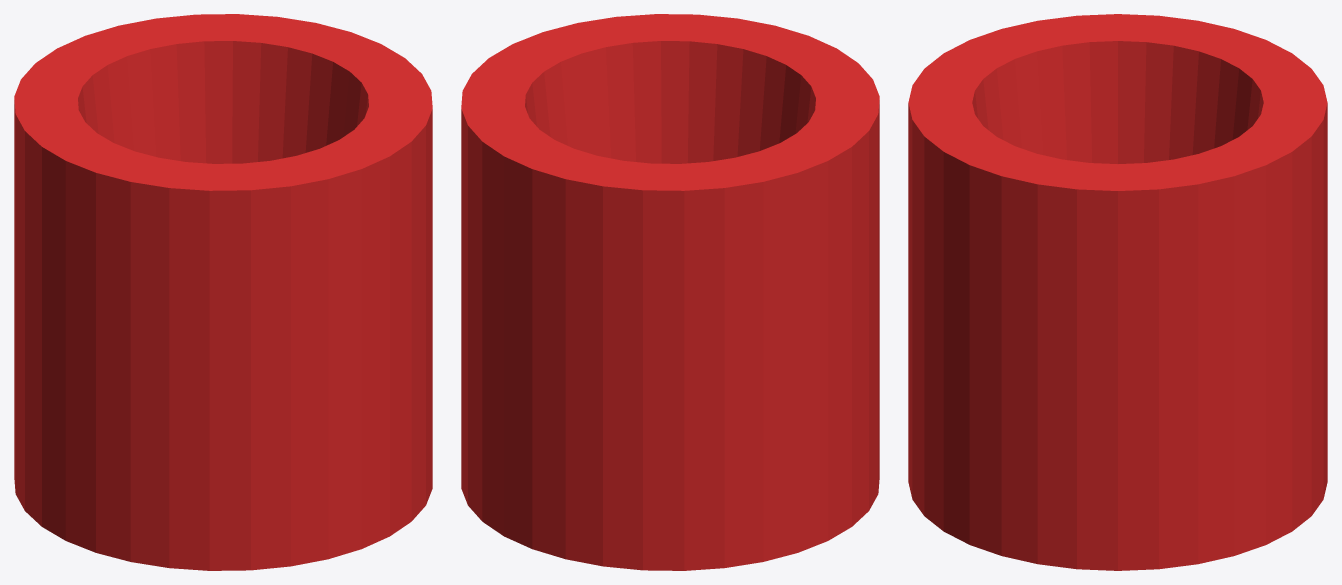
Rendered from portaprovette.dae.
The picture shows the model from 3 angles, left to right: view 1: azimuth 30°, elevation 25°; view 2: azimuth 150°, elevation 25°; view 3: azimuth 270°, elevation 25°; orthographic projection.
Parts seen in each view (by area): view 1: Cilindro; view 2: Cilindro; view 3: Cilindro.
Part boxes in pixels (<box>): Cilindro: <box>14,14,432,570</box>; Cilindro: <box>461,14,879,570</box>; Cilindro: <box>908,14,1327,570</box>.
Bounding box in the file's own units: 0.0426 × 0.0426 × 0.0426.
